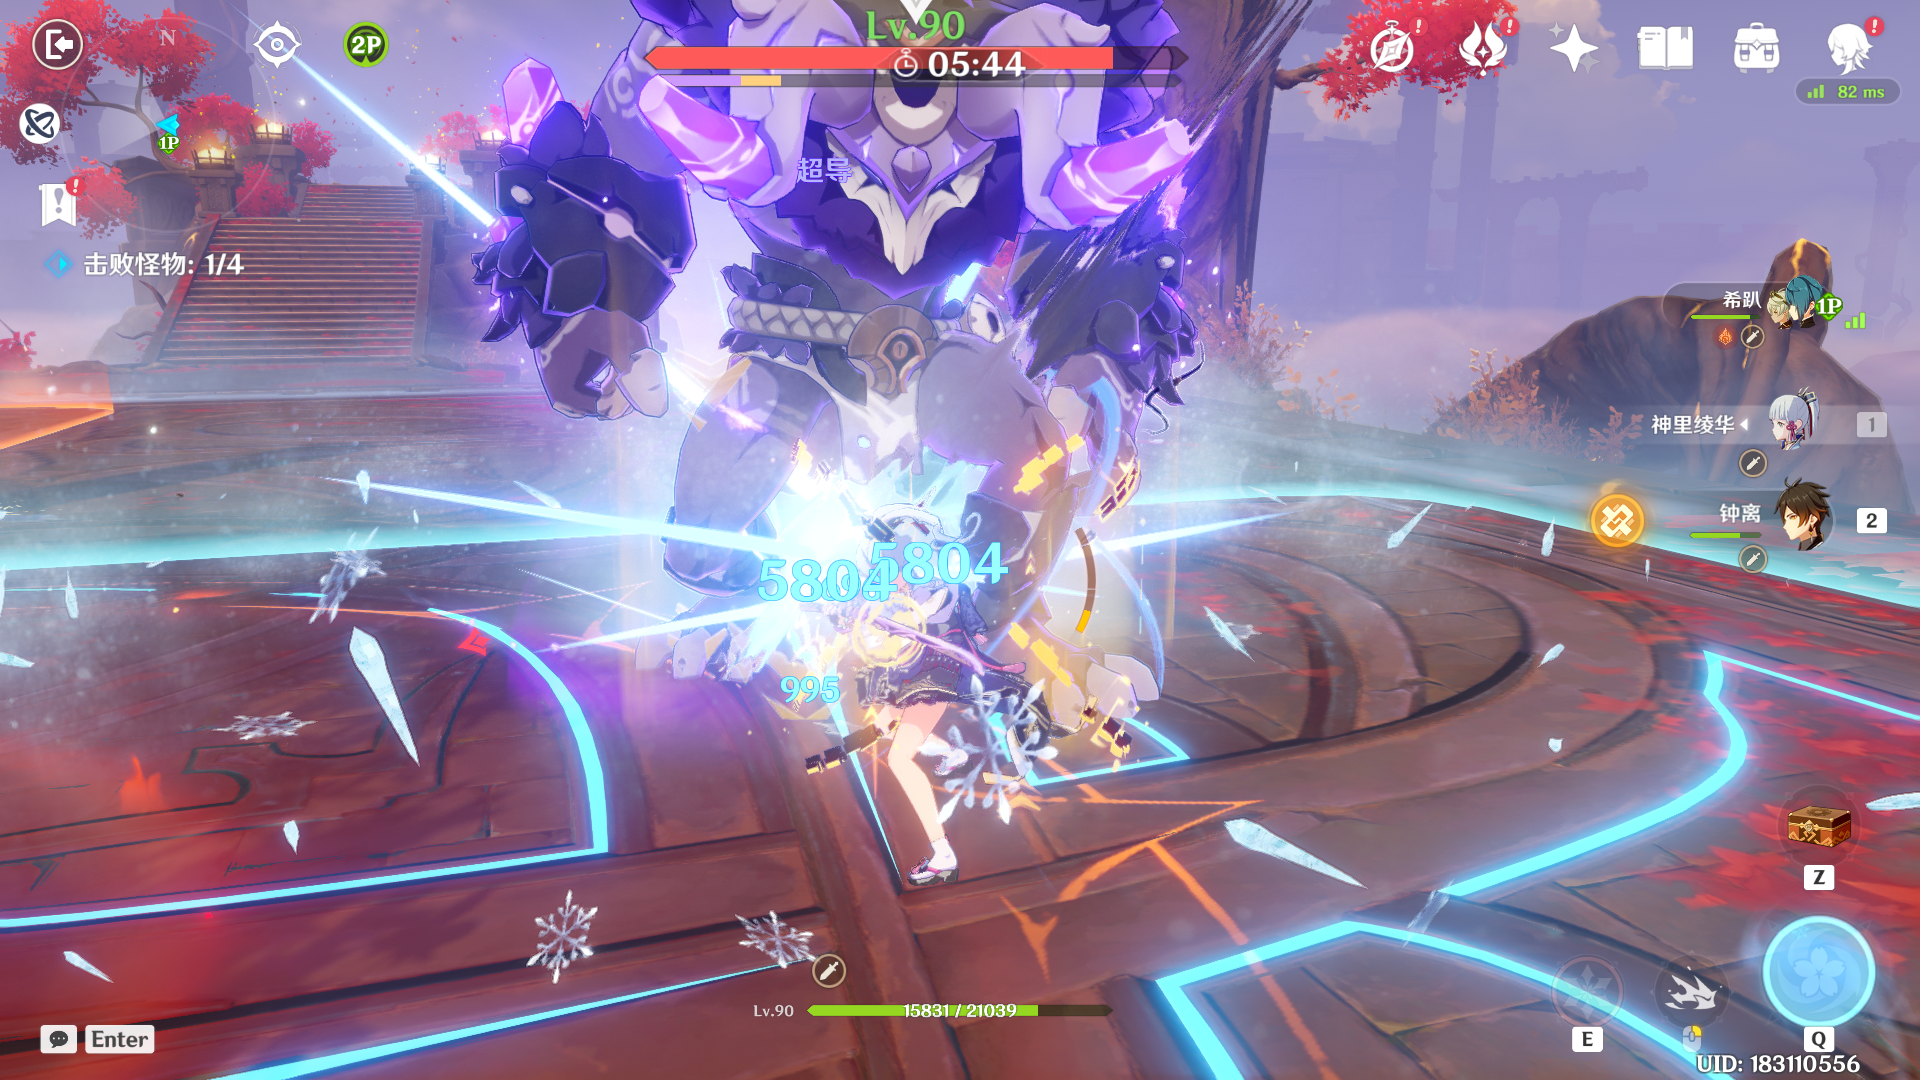bosshili: (488, 1, 1232, 738)
character: (804, 502, 1050, 923)
